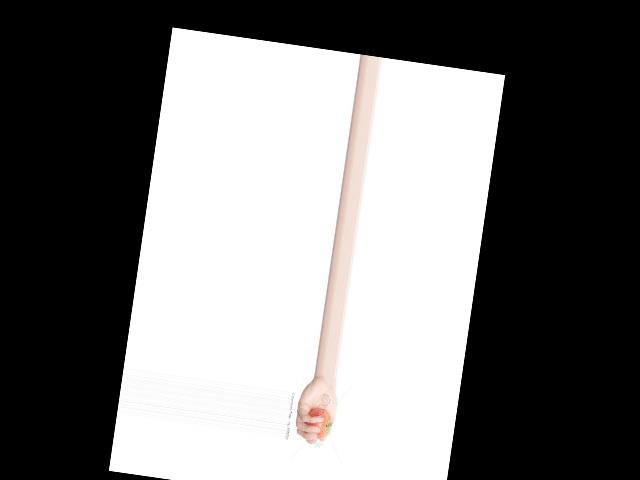tomato: (303, 408, 332, 440)
